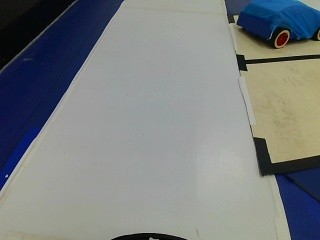car: (230, 0, 318, 49)
